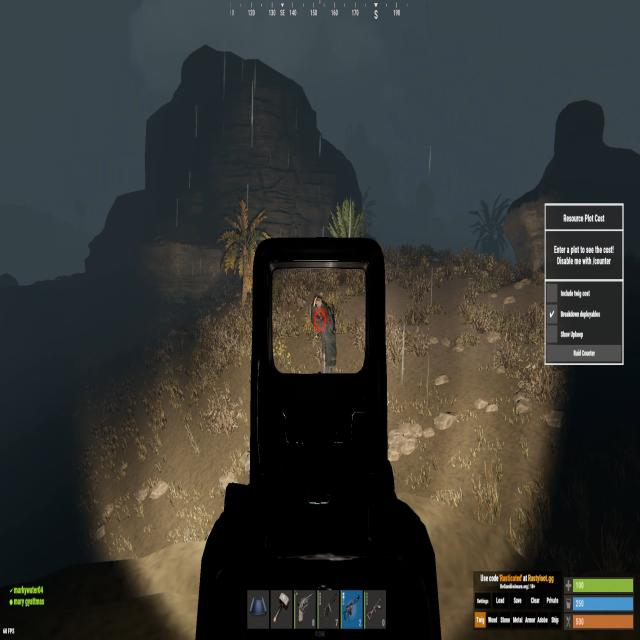Player: (308, 289, 338, 374)
